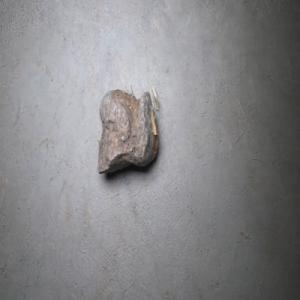Rock: (97, 85, 159, 174)
